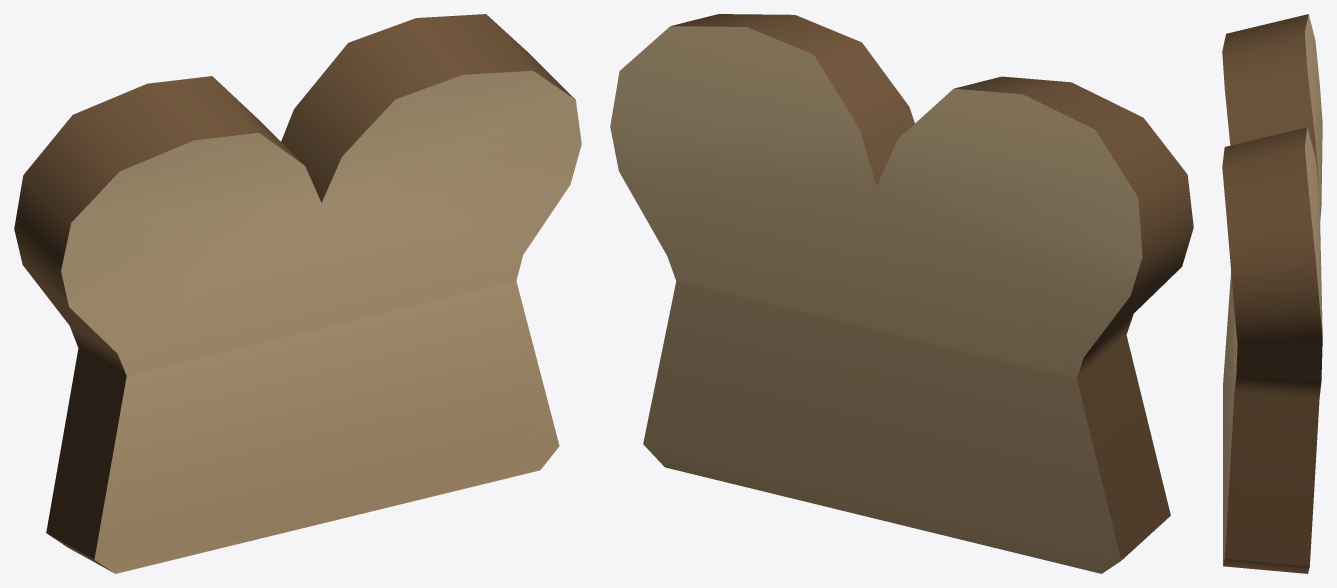
File: Mold.fbx
3 renders of one model, left to right at view 1: azimuth 30°, elevation 25°; view 2: azimuth 150°, elevation 25°; view 3: azimuth 270°, elevation 25°, orthographic. The views are drawn at different scales.
Parts seen in each view (by area): view 1: Bread; view 2: Bread; view 3: Bread.
Boxes of the visible parts, x1,y1,x2,y2 form: Bread: (14,14,581,573); Bread: (610,14,1193,573); Bread: (1222,14,1322,573).
Bounding box in the file's own units: 164 × 134 × 31.17.
